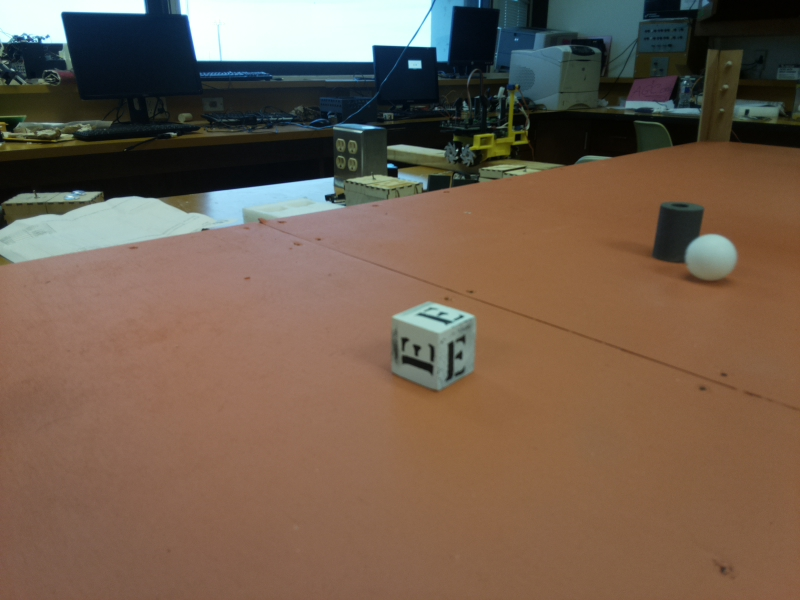blockE: (390, 297, 479, 393)
corner: (703, 45, 740, 143)
obstacle: (656, 198, 720, 276)
